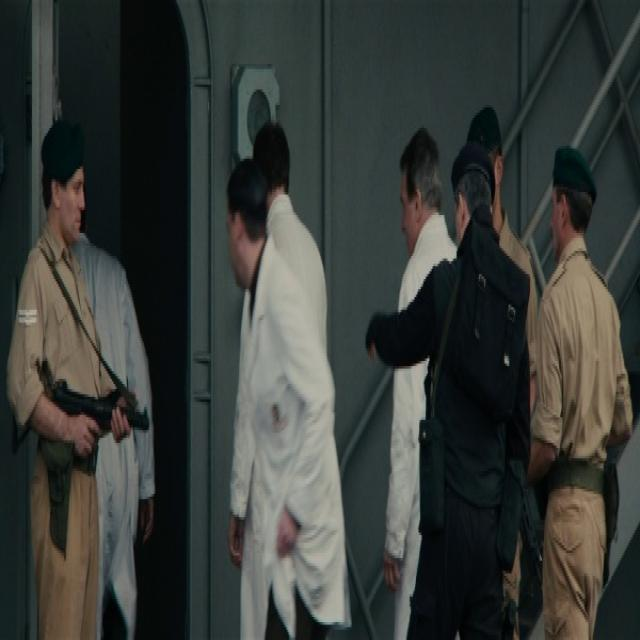rifle: (46, 375, 153, 453)
